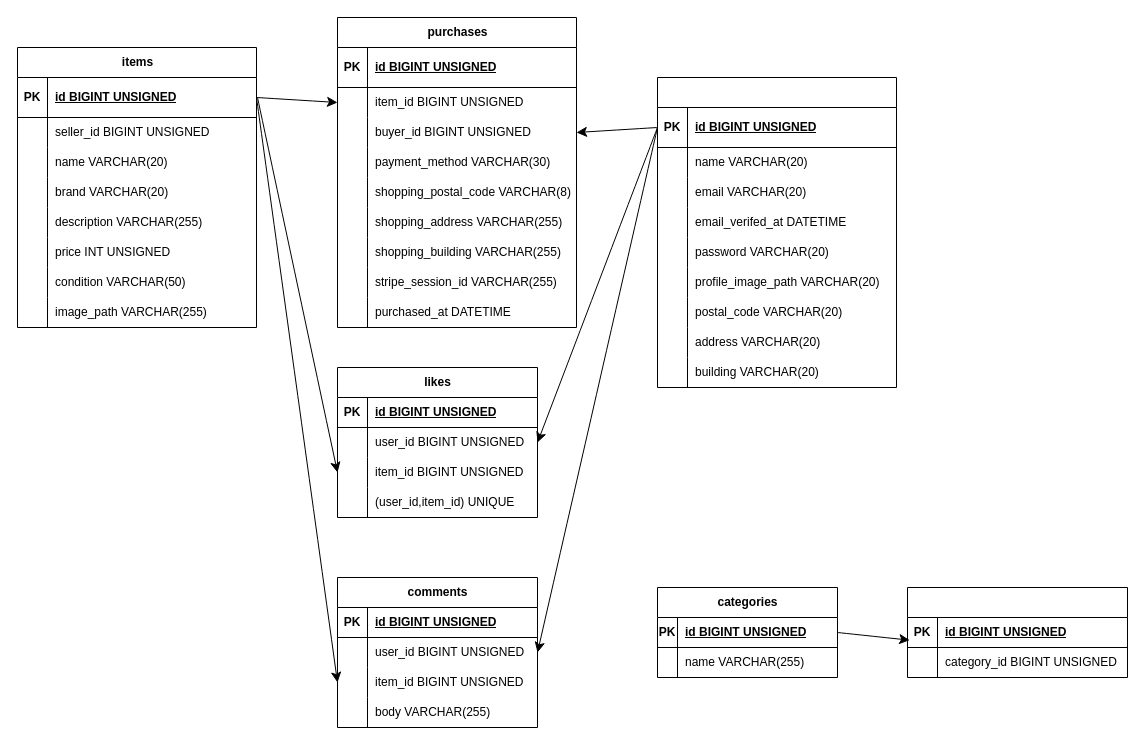
Image size: 1145x745. Some labels were removed from this diagram. The box of each missing label's shape, as (x1, y1, x2, y2) in pixels:
category_item: (906, 586, 1128, 678)
users: (656, 76, 896, 388)
